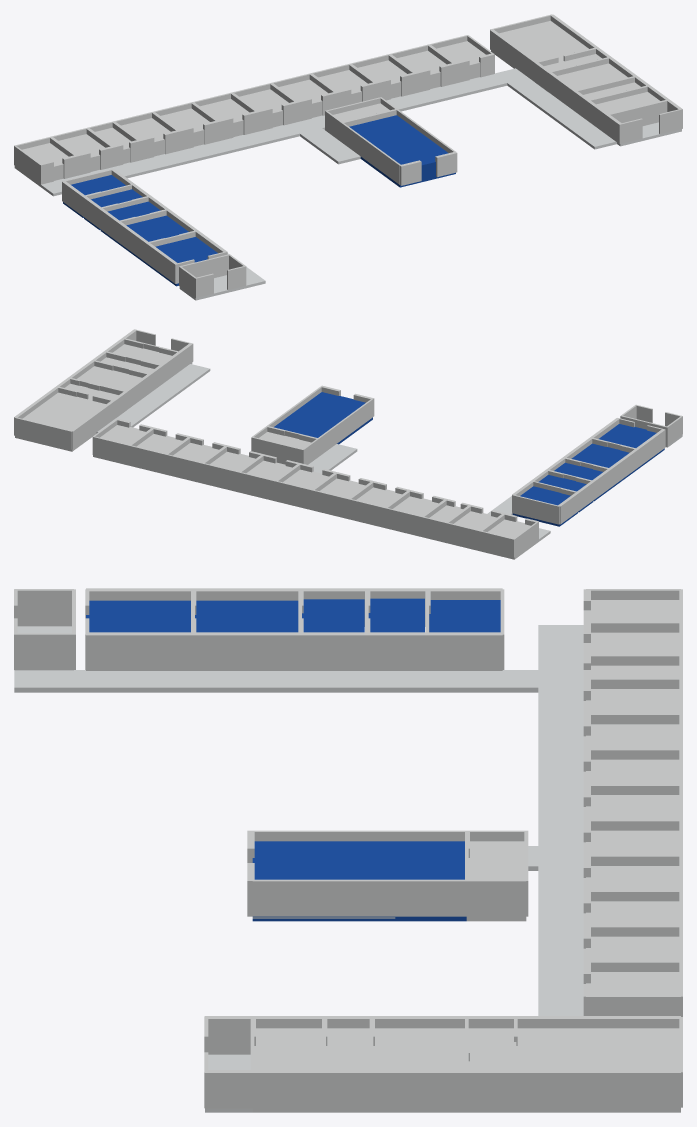
File: level-3.glb
3 views of the same model, one above another, from view 1: azimuth 30°, elevation 25°; view 2: azimuth 150°, elevation 25°; view 3: azimuth 270°, elevation 25° (orthographic). The views are drawn at different scales.
Parts seen in each view (by area): view 1: E corridor.002, Media ResourceLibrary | floor, C corridor.002, Rifle Range | floor, Media ResourceLibrary | wall W, LearningResource 02 | floor, Rifle Range | wall W, B west link.002, Kitchen 01 | floor, LearningResource 01 | floor, Room 22 | floor, Room 29 | floor (+28 smaller); view 2: Media ResourceLibrary | floor, Rifle Range | floor, C corridor.002, Rifle Range | wall N, Media ResourceLibrary | wall W, Rifle Range | wall W, History / Geo | wall N, Kitchen 01 | floor, LearningResource 02 | floor, LearningResource 01 | floor, Librarian | wall N, Room 22 | wall N (+37 smaller); view 3: E corridor.002, F corridor.002, Media ResourceLibrary | floor, Media ResourceLibrary | wall E, Rifle Range | floor, Rifle Range | wall E, History / Geo | wall E, Kitchen 01 | floor, LearningResource 01 | wall E, LearningResource 02 | wall E, Kitchen 01 | wall E, LearningResource 01 | floor (+51 smaller).
Part boxes in pixels (bbox=[...]): E corridor.002: bbox=[40, 68, 528, 196]; Media ResourceLibrary | floor: bbox=[349, 115, 455, 187]; C corridor.002: bbox=[507, 78, 616, 149]; Rifle Range | floor: bbox=[491, 20, 588, 68]; Media ResourceLibrary | wall W: bbox=[341, 123, 400, 184]; LearningResource 02 | floor: bbox=[147, 237, 217, 286]; Rifle Range | wall W: bbox=[490, 29, 536, 81]; B west link.002: bbox=[300, 128, 360, 164]; Kitchen 01 | floor: bbox=[557, 63, 627, 89]; LearningResource 01 | floor: bbox=[118, 215, 188, 264]; Room 22 | floor: bbox=[161, 108, 209, 146]; Room 29 | floor: bbox=[437, 41, 485, 79]; Media ResourceLibrary | floor: bbox=[274, 392, 372, 444]; Rifle Range | floor: bbox=[15, 392, 105, 451]; C corridor.002: bbox=[109, 364, 210, 427]; Rifle Range | wall N: bbox=[14, 417, 72, 449]; Media ResourceLibrary | wall W: bbox=[317, 399, 372, 456]; Rifle Range | wall W: bbox=[71, 400, 115, 449]; History / Geo | wall N: bbox=[512, 494, 559, 524]; Kitchen 01 | floor: bbox=[77, 366, 141, 390]; LearningResource 02 | floor: bbox=[599, 424, 664, 469]; LearningResource 01 | floor: bbox=[571, 443, 637, 488]; Librarian | wall N: bbox=[251, 437, 303, 463]; Room 22 | wall N: bbox=[348, 499, 385, 525]; E corridor.002: bbox=[538, 625, 583, 1015]; F corridor.002: bbox=[14, 670, 538, 692]; Media ResourceLibrary | floor: bbox=[252, 841, 466, 921]; Media ResourceLibrary | wall E: bbox=[252, 879, 466, 916]; Rifle Range | floor: bbox=[514, 1028, 680, 1112]; Rifle Range | wall E: bbox=[514, 1070, 680, 1108]; History / Geo | wall E: bbox=[383, 632, 502, 670]; Kitchen 01 | floor: bbox=[371, 1028, 466, 1112]; LearningResource 01 | wall E: bbox=[193, 632, 300, 670]; LearningResource 02 | wall E: bbox=[86, 632, 192, 670]; Kitchen 01 | wall E: bbox=[371, 1070, 466, 1108]; LearningResource 01 | floor: bbox=[195, 600, 298, 632].
Bounding box in the file's own units: 96.36 × 3.75 × 56.2.
